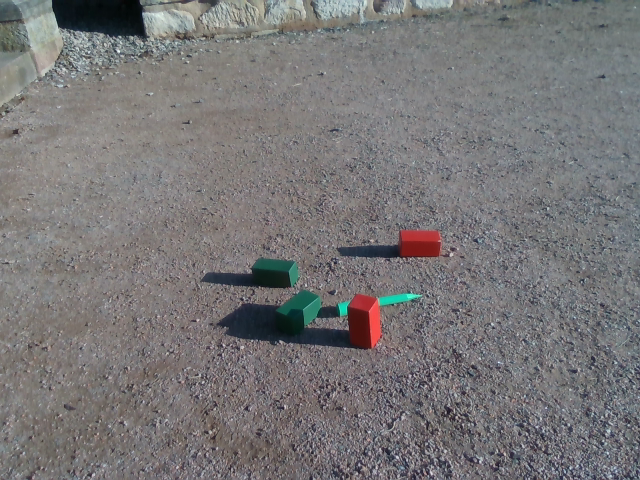Probe: (334, 287, 423, 318)
